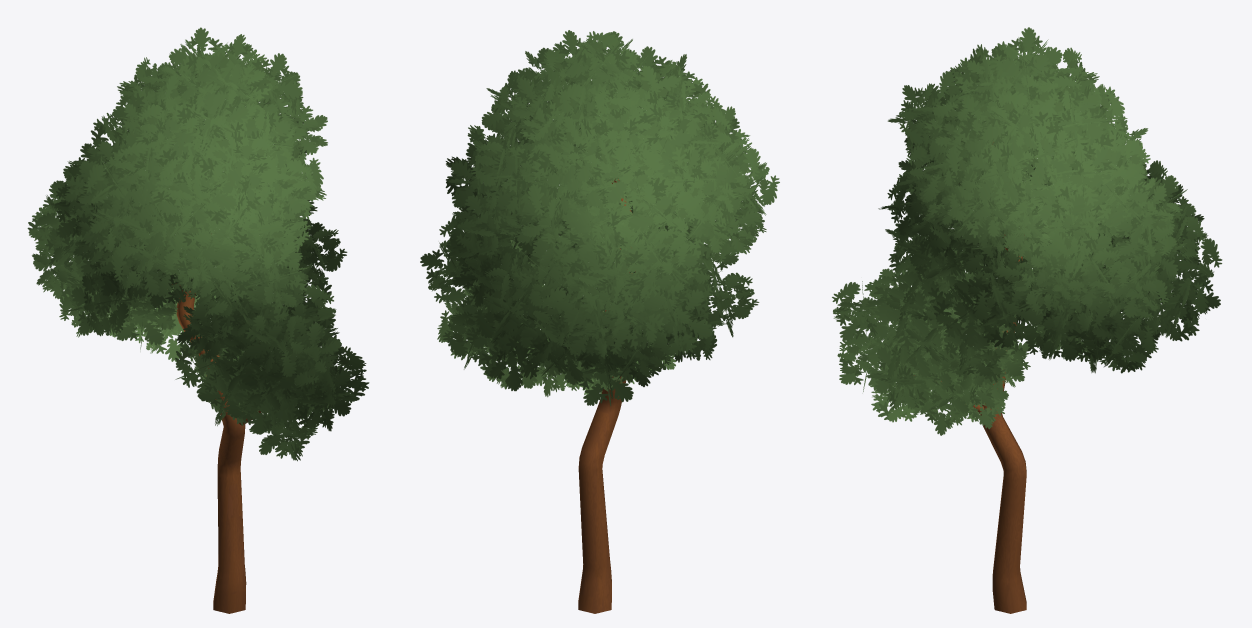
File: tree_oak_01.glb
3 renders of one model, left to right at view 1: azimuth 30°, elevation 25°; view 2: azimuth 150°, elevation 25°; view 3: azimuth 270°, elevation 25°, orthographic. The views are drawn at different scales.
Parts seen in each view (by area): view 1: Leaf.016; view 2: Leaf.016; view 3: Leaf.016.
Boxes of the visible parts, x1,y1,x2,y2 form: Leaf.016: [27, 27, 369, 613]; Leaf.016: [420, 30, 779, 613]; Leaf.016: [832, 27, 1222, 613].
Bounding box in the file's own units: 11.63 × 21.8 × 14.23.
Materials: 2 (2 with a texture image).
